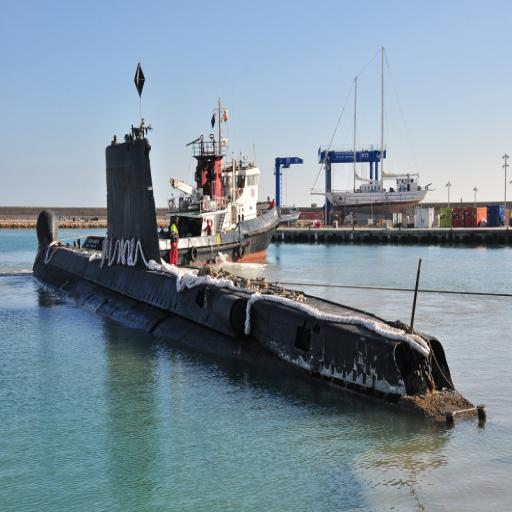submarine: (14, 130, 489, 425)
